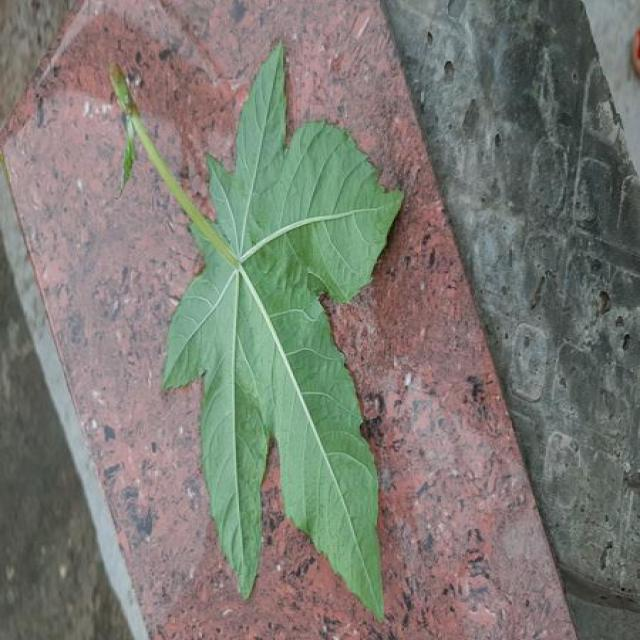castor: (110, 45, 403, 618)
